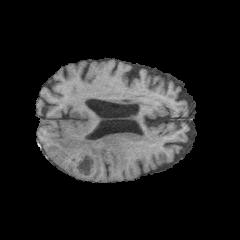glioma: (45, 134, 127, 178)
